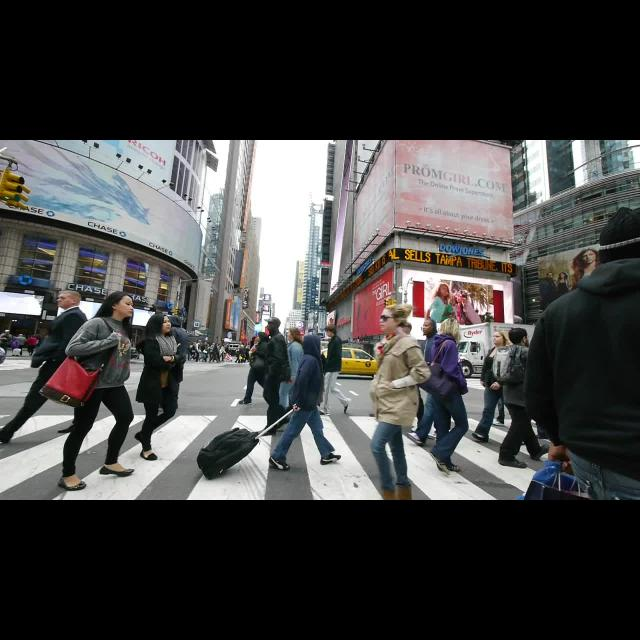head: (108, 290, 136, 318), (380, 306, 406, 330), (150, 314, 172, 334), (56, 291, 82, 307), (303, 336, 321, 354), (441, 318, 459, 336), (422, 318, 438, 338), (266, 316, 282, 332), (493, 329, 509, 345), (511, 328, 527, 344), (167, 316, 181, 330), (287, 327, 301, 341), (327, 324, 338, 338), (402, 322, 412, 336), (257, 332, 267, 342), (6, 330, 10, 336), (19, 334, 23, 338), (198, 340, 202, 344), (215, 343, 219, 347), (212, 342, 216, 346), (222, 343, 226, 347), (228, 352, 232, 356), (205, 342, 208, 346), (13, 338, 17, 340), (218, 345, 222, 347), (237, 349, 239, 351)
person: (36, 289, 138, 493), (0, 288, 92, 446), (267, 334, 343, 474), (414, 316, 472, 478), (490, 325, 552, 471), (134, 310, 190, 462), (471, 329, 535, 447), (252, 316, 296, 438), (368, 320, 422, 418), (407, 316, 447, 442), (154, 313, 190, 413), (313, 323, 349, 417), (237, 330, 279, 406), (277, 326, 307, 426), (0, 329, 12, 359), (14, 333, 28, 357), (10, 335, 22, 357), (209, 342, 221, 363), (193, 340, 203, 364), (212, 343, 222, 363), (217, 343, 227, 363), (202, 341, 210, 363), (208, 342, 216, 362), (233, 348, 241, 364), (224, 351, 233, 363)
